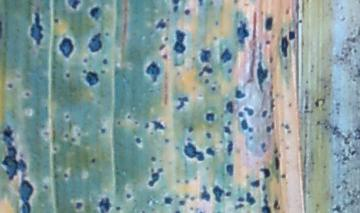tarspot: (1, 123, 18, 178), (17, 178, 33, 213), (257, 43, 268, 92), (29, 13, 44, 46), (184, 143, 204, 161), (173, 30, 186, 55), (236, 18, 249, 43), (87, 32, 102, 53), (58, 38, 73, 59), (145, 62, 160, 82), (83, 70, 99, 86), (149, 168, 162, 187), (249, 48, 256, 83), (199, 184, 211, 201), (280, 35, 289, 57), (213, 185, 224, 203), (89, 6, 102, 21), (151, 119, 166, 132), (262, 194, 271, 213), (252, 9, 257, 43), (199, 49, 211, 63), (176, 96, 188, 110), (221, 48, 232, 63), (99, 198, 110, 213), (66, 1, 82, 11), (197, 66, 213, 76), (245, 192, 255, 206), (260, 167, 272, 178), (224, 100, 234, 113), (156, 18, 167, 29), (242, 105, 254, 115), (265, 15, 272, 32), (227, 140, 234, 156), (226, 163, 234, 177), (19, 158, 27, 172), (240, 117, 248, 130), (206, 146, 215, 157), (235, 89, 246, 98), (205, 112, 215, 121), (269, 97, 275, 112), (250, 179, 260, 188), (272, 199, 280, 210), (223, 126, 232, 135), (289, 30, 296, 41), (234, 202, 245, 209), (260, 142, 266, 154), (313, 98, 320, 108), (274, 157, 279, 170), (42, 130, 50, 138), (75, 202, 83, 210), (333, 205, 341, 213), (99, 126, 106, 135), (236, 195, 245, 202), (163, 197, 172, 204), (284, 123, 290, 133), (1, 20, 4, 40), (261, 110, 268, 118), (264, 38, 271, 45), (135, 137, 142, 144), (237, 111, 244, 118), (284, 8, 291, 15), (184, 8, 190, 16), (203, 76, 209, 84), (210, 84, 216, 92), (7, 83, 14, 89), (24, 91, 31, 97), (102, 58, 108, 65), (173, 5, 179, 12), (160, 44, 166, 51), (150, 155, 156, 162), (187, 126, 193, 133), (206, 132, 212, 139), (247, 127, 254, 133), (261, 184, 267, 191), (226, 190, 232, 197), (179, 199, 185, 206), (266, 125, 271, 133), (53, 18, 59, 24), (162, 54, 168, 60), (271, 121, 275, 130), (273, 148, 279, 154), (280, 173, 286, 179), (43, 184, 49, 190), (63, 173, 69, 179), (126, 193, 132, 199), (65, 72, 70, 79), (70, 137, 77, 142), (91, 157, 96, 164), (144, 122, 149, 129), (269, 56, 274, 63), (198, 1, 204, 6), (104, 32, 110, 37), (64, 133, 69, 139), (164, 137, 169, 143), (187, 136, 192, 142), (213, 35, 218, 41), (214, 20, 219, 26), (228, 67, 233, 73), (190, 196, 196, 201), (115, 206, 121, 211), (100, 69, 106, 74), (298, 18, 303, 24), (117, 119, 121, 126), (83, 58, 88, 63), (164, 37, 169, 42), (65, 114, 70, 119), (53, 147, 58, 152), (126, 114, 131, 119), (209, 1, 214, 6), (227, 121, 232, 126), (283, 65, 288, 70), (287, 102, 292, 107), (175, 209, 181, 213), (172, 1, 179, 4), (233, 1, 238, 5), (185, 179, 189, 184), (184, 194, 189, 198), (135, 120, 138, 125)
